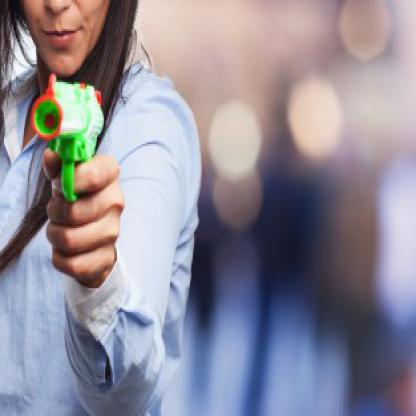gun: (26, 67, 110, 241)
